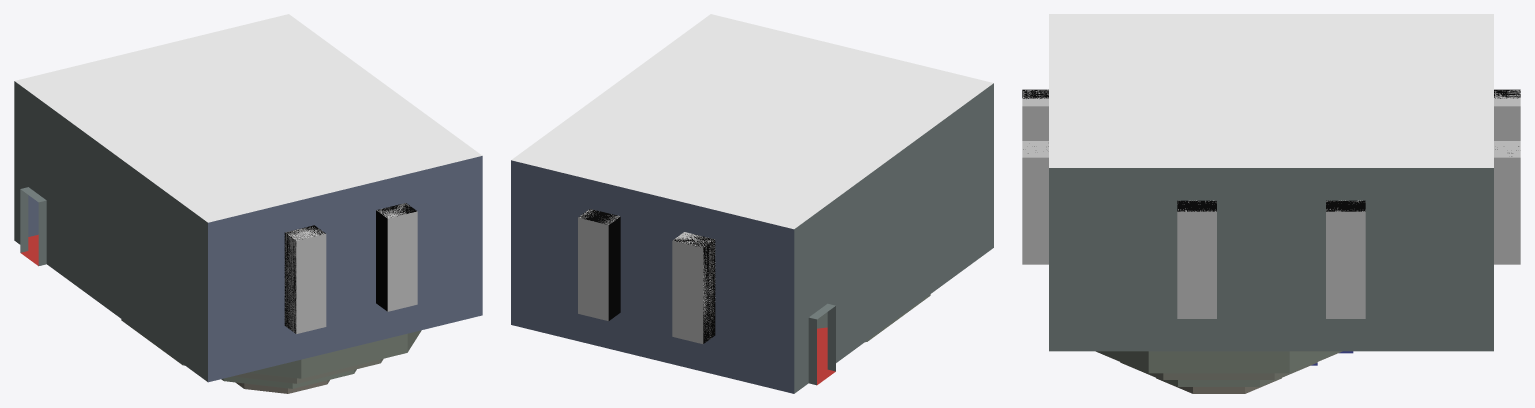
Rendered from operating_theatre.fbx.
3 renders of one model, left to right at view 1: azimuth 30°, elevation 25°; view 2: azimuth 150°, elevation 25°; view 3: azimuth 270°, elevation 25°, orthographic. The views are drawn at different scales.
Parts seen in each view (by area): view 1: walls, ceiling, floor, win_z1, win_z1_ncl1_1; view 2: walls, ceiling, win_z1_ncl1_2, win_z1_ncl1_3, floor; view 3: walls, ceiling, floor, win_z1_ncl1_5, win_z1_ncl1_4, win_z1_ncl1_1, win_z1_ncl1_3, win_z1_ncl1_2, win_z1.
Part boxes in pixels (x1=…): walls: x1=14, y1=81, x2=482, y2=382; ceiling: x1=15, y1=14, x2=482, y2=222; floor: x1=21, y1=234, x2=421, y2=393; win_z1: x1=284, y1=227, x2=326, y2=333; win_z1_ncl1_1: x1=376, y1=203, x2=417, y2=311; walls: x1=511, y1=83, x2=993, y2=393; ceiling: x1=511, y1=14, x2=993, y2=229; win_z1_ncl1_2: x1=672, y1=232, x2=715, y2=343; win_z1_ncl1_3: x1=578, y1=209, x2=619, y2=320; floor: x1=817, y1=294, x2=930, y2=384; walls: x1=1022, y1=89, x2=1520, y2=351; ceiling: x1=1049, y1=14, x2=1493, y2=167; floor: x1=1096, y1=351, x2=1353, y2=393; win_z1_ncl1_5: x1=1177, y1=200, x2=1216, y2=318; win_z1_ncl1_4: x1=1326, y1=200, x2=1365, y2=318; win_z1_ncl1_1: x1=1022, y1=141, x2=1048, y2=264; win_z1_ncl1_3: x1=1494, y1=141, x2=1520, y2=264; win_z1_ncl1_2: x1=1494, y1=90, x2=1520, y2=140; win_z1: x1=1022, y1=90, x2=1048, y2=140.
Bounding box in the file's own units: 993 × 740 × 1232.
